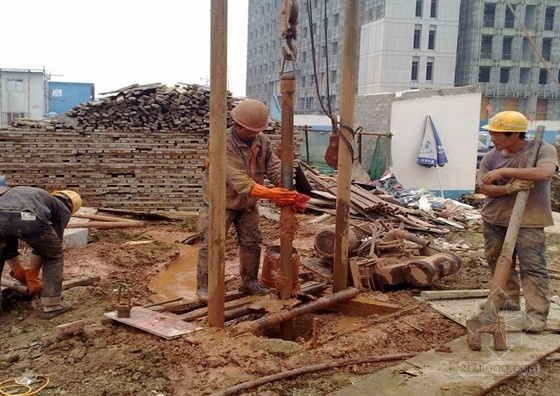red: (229, 98, 271, 141)
yellow: (485, 108, 529, 151), (48, 183, 84, 216)
